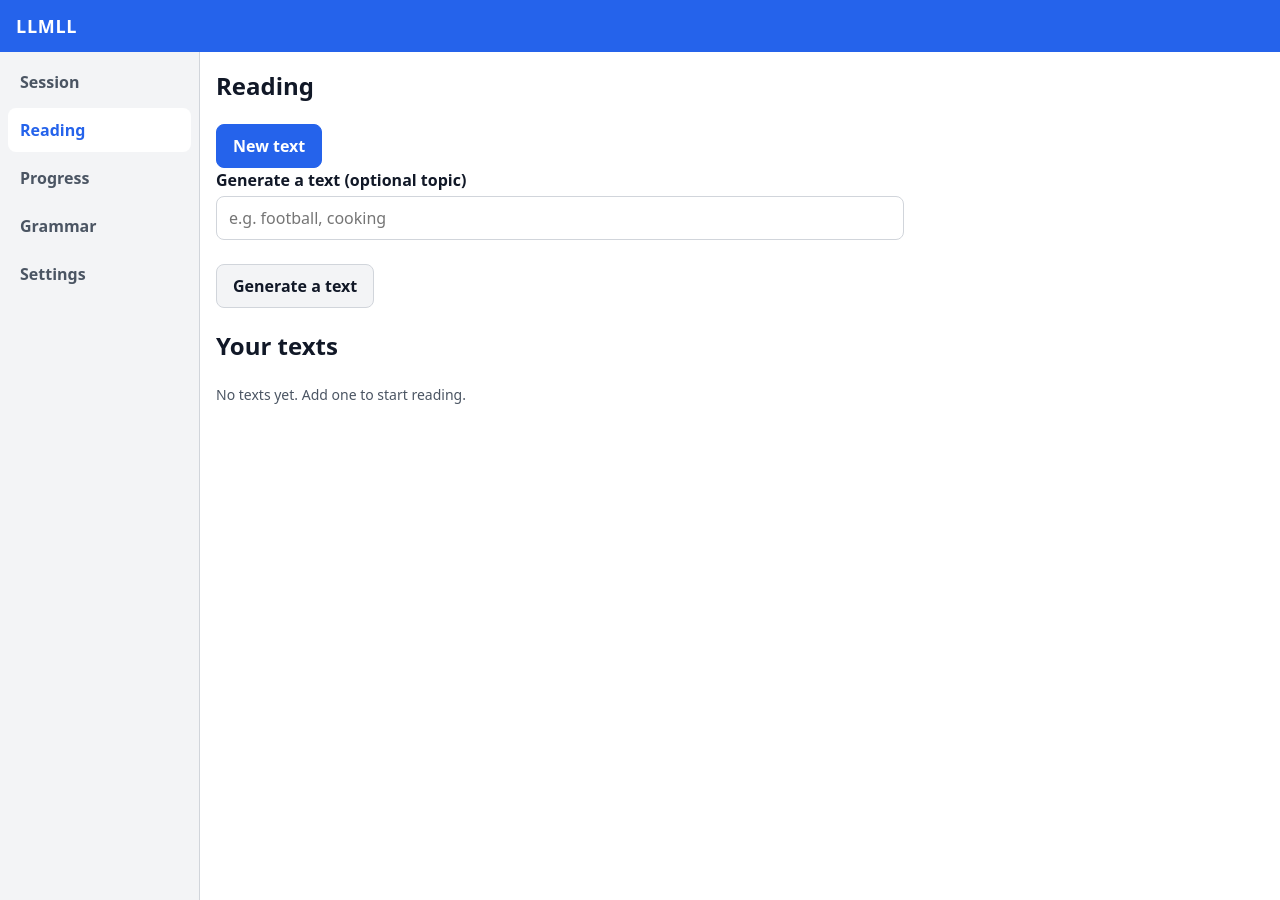
it: Reading list and new text › on URL extraction failure switches to paste and keeps the URL
Click the button "New text" at (269,146), box [216, 124, 322, 168]
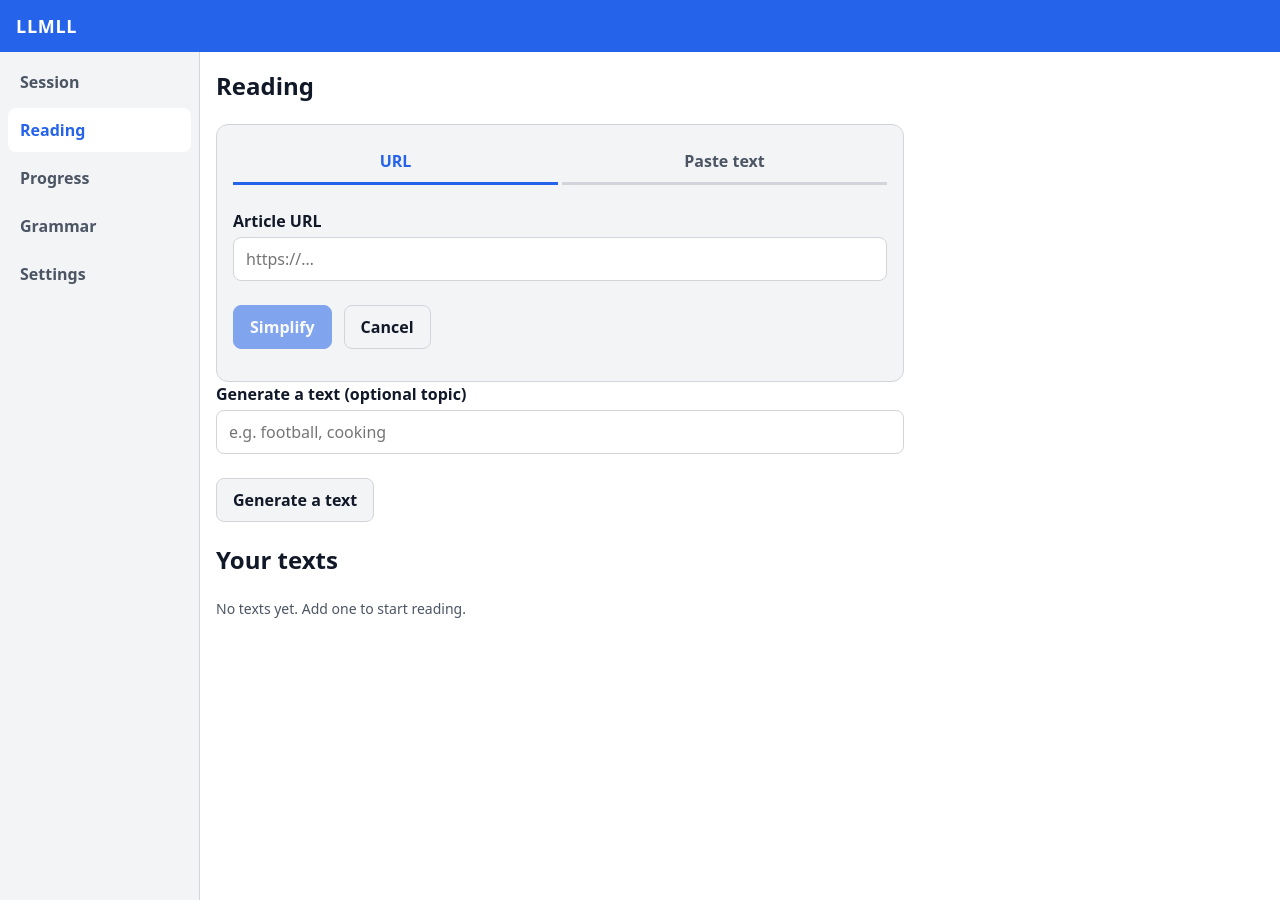
Type "https://example.com/a" into the field labelled "Article URL" at (560,259), box [233, 237, 887, 281]
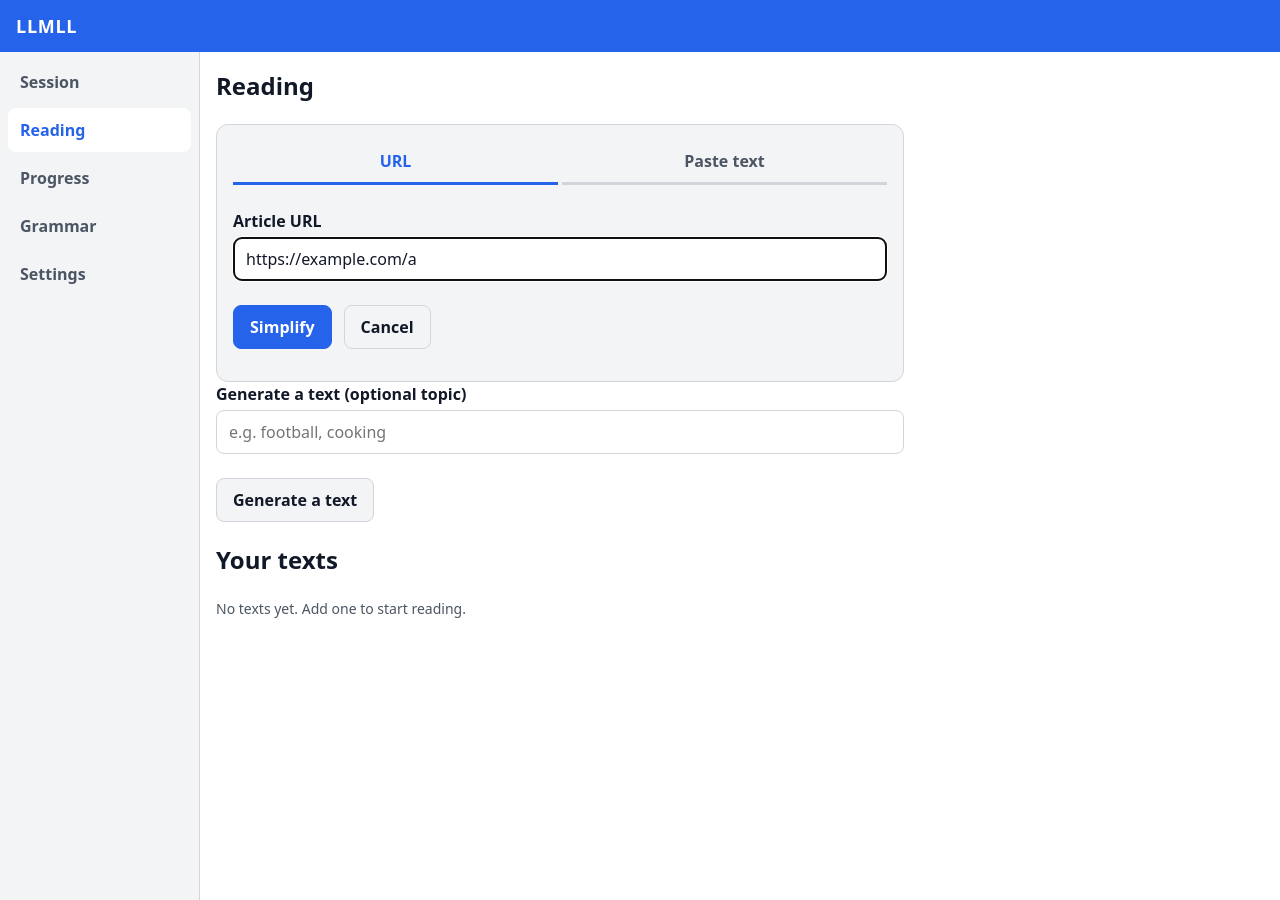
Click the button "Simplify" at (282,327), box [233, 305, 332, 349]
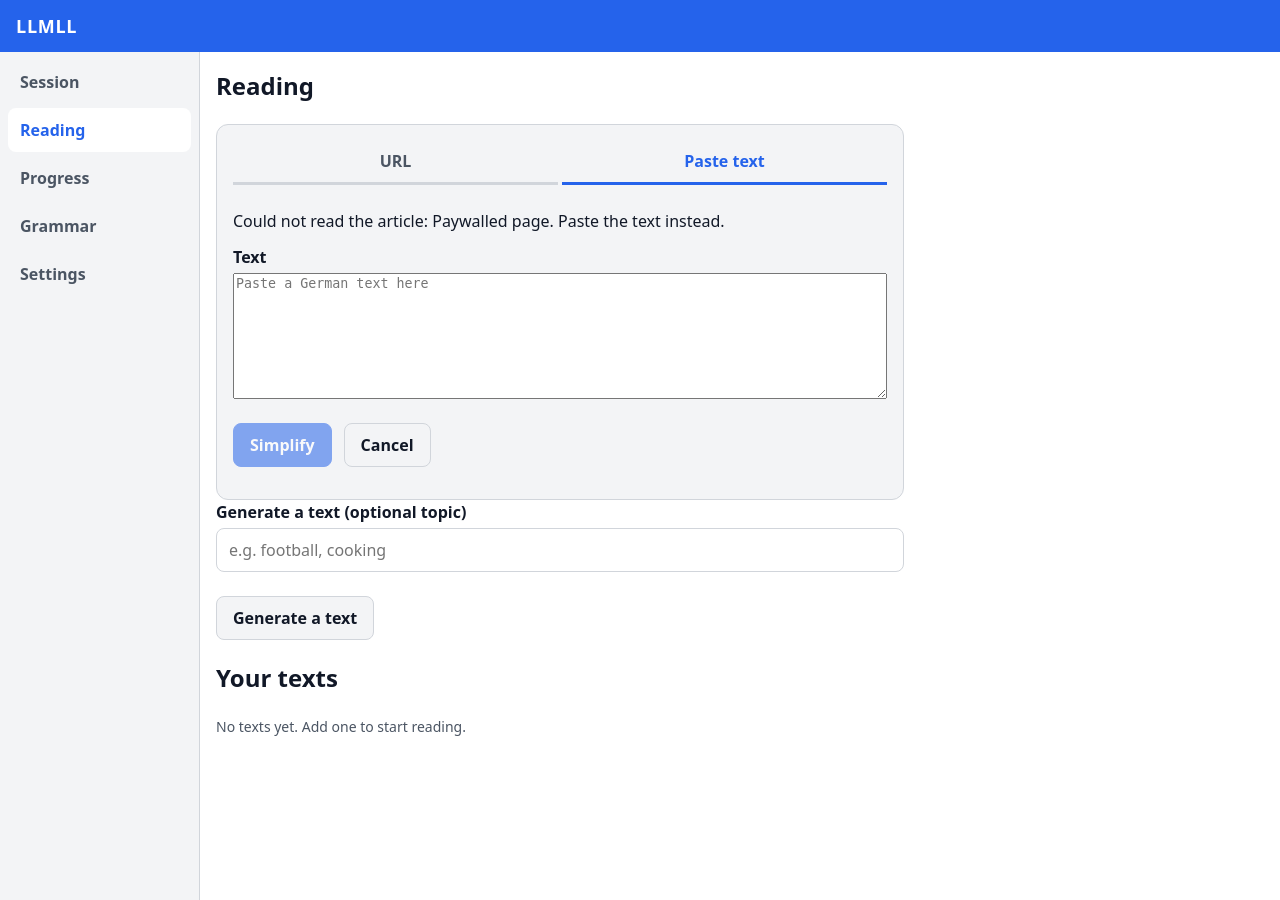
expect the text "Could not read the article: Paywalled page. Paste the text instead." is shown: met, box [233, 210, 725, 232]
Click the tab "URL" at (396,163), box [233, 141, 558, 185]
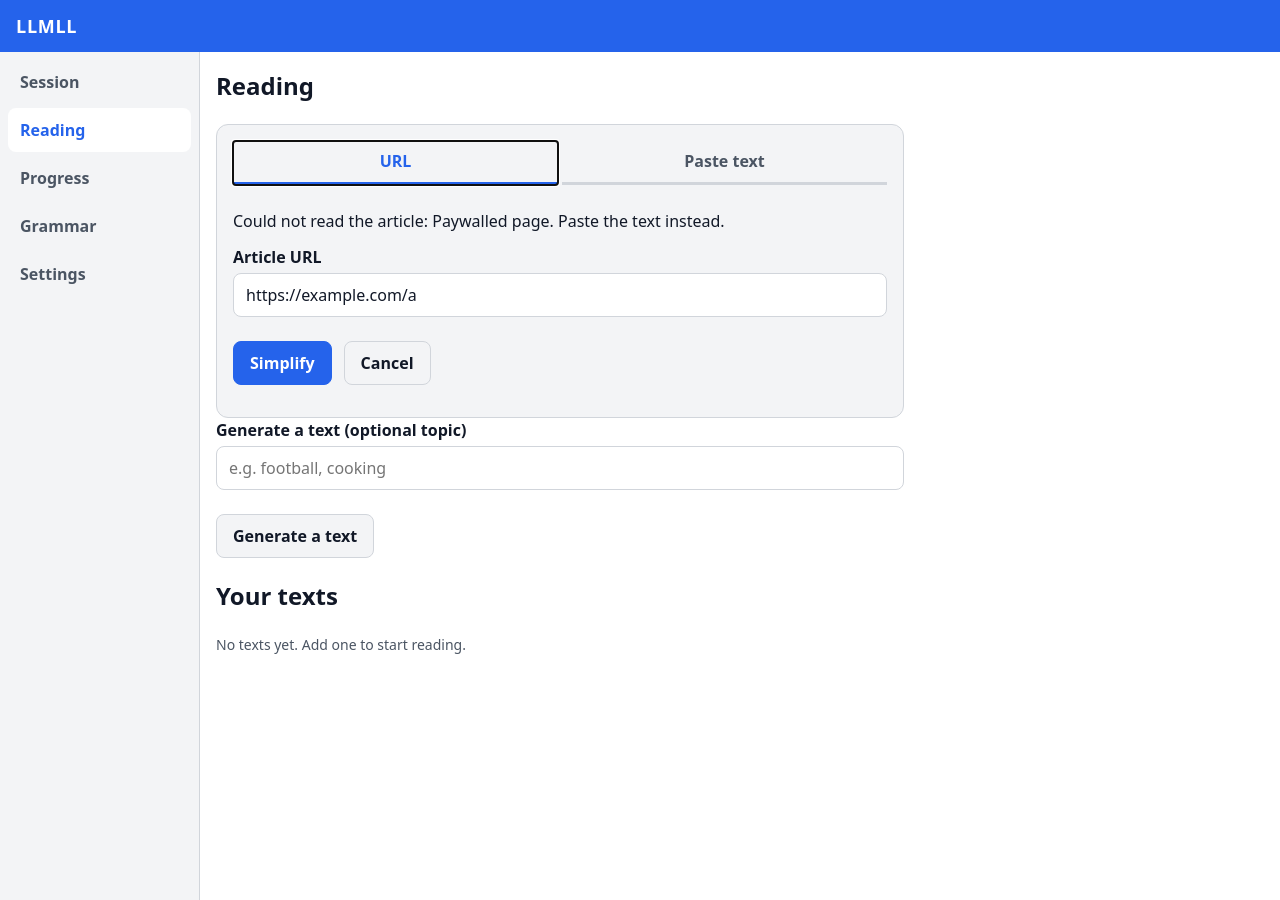
expect the field labelled "Article URL" holds "https://example.com/a": met, box [233, 273, 887, 317]
